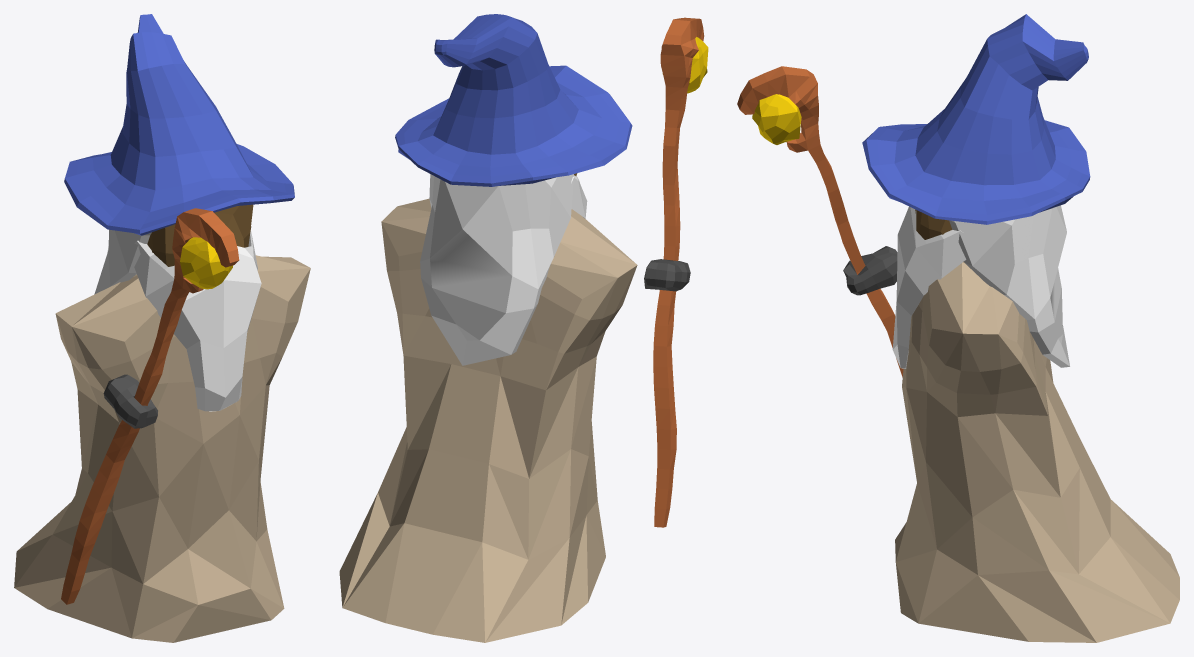
The model's file is Zizard the Wizard.fbx.
The picture shows the model from 3 angles, left to right: view 1: azimuth 30°, elevation 25°; view 2: azimuth 150°, elevation 25°; view 3: azimuth 270°, elevation 25°; orthographic projection.
Visible parts, largest first — view 1: Cube, Cube_2, Cube_6, Cube_3, Cube_5, Cube_4, Cube_1, Cube_7; view 2: Cube, Cube_2, Cube_5, Cube_3, Cube_7, Cube_4; view 3: Cube, Cube_2, Cube_5, Cube_3, Cube_6, Cube_4, Cube_7, Cube_1.
Boxes of the visible parts, bbox=[...] form: Cube: bbox=[14, 255, 310, 642]; Cube_2: bbox=[64, 14, 294, 235]; Cube_6: bbox=[134, 230, 261, 411]; Cube_3: bbox=[61, 208, 239, 604]; Cube_5: bbox=[94, 229, 151, 294]; Cube_4: bbox=[180, 237, 233, 289]; Cube_1: bbox=[136, 204, 253, 274]; Cube_7: bbox=[103, 374, 157, 428]; Cube: bbox=[339, 198, 637, 642]; Cube_2: bbox=[395, 14, 632, 186]; Cube_5: bbox=[420, 174, 573, 365]; Cube_3: bbox=[653, 17, 704, 527]; Cube_7: bbox=[644, 259, 690, 291]; Cube_4: bbox=[662, 37, 708, 93]; Cube: bbox=[895, 262, 1179, 642]; Cube_2: bbox=[862, 14, 1090, 224]; Cube_5: bbox=[949, 205, 1069, 367]; Cube_3: bbox=[737, 66, 903, 377]; Cube_6: bbox=[892, 206, 966, 368]; Cube_4: bbox=[752, 94, 801, 144]; Cube_7: bbox=[843, 246, 897, 295]; Cube_1: bbox=[915, 209, 963, 261].
Bounding box in the file's own units: 169 × 352 × 251.
